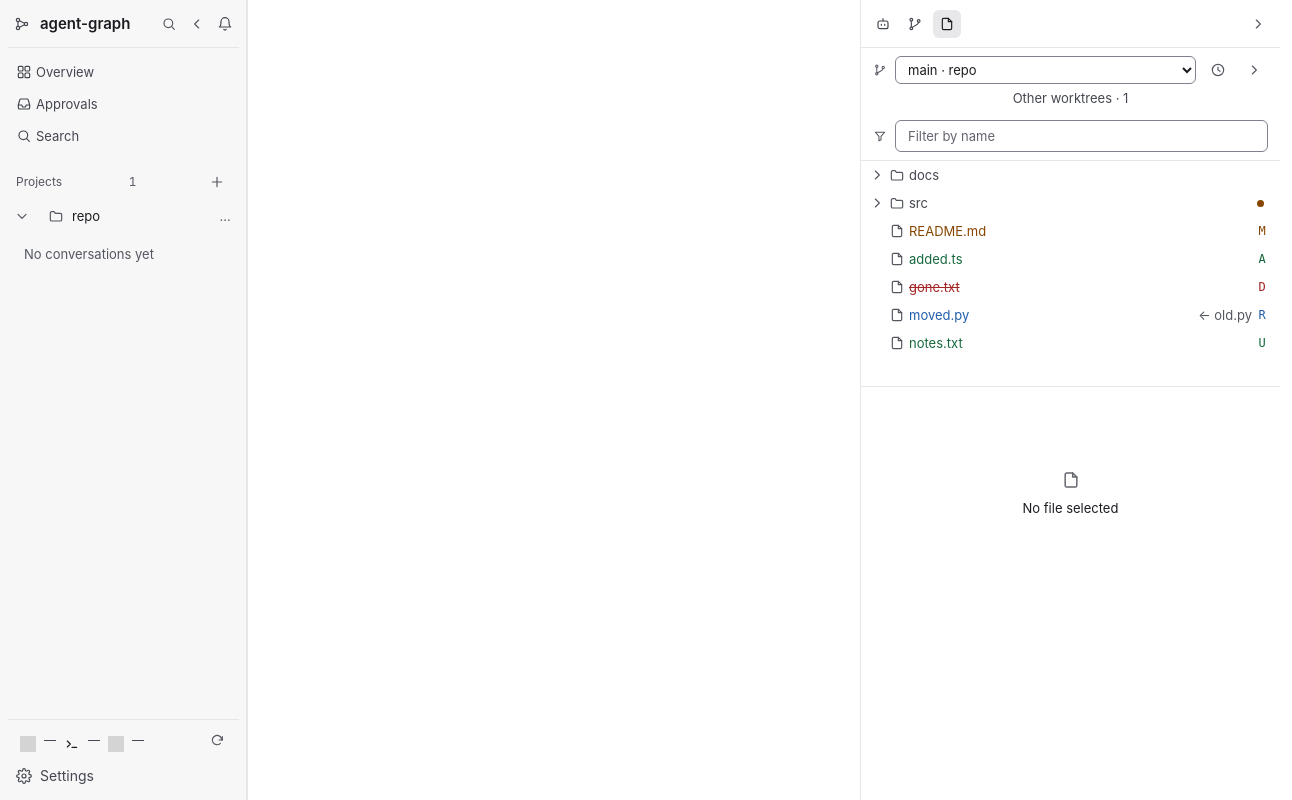
Scenario: Files explorer › shows git marks with colours, deleted and renamed files and a dot on folders with changes
Expected: the list is shown, x1=861 y1=161 x2=1280 y2=357
Expected: the text "M" is shown, x1=1258 y1=224 x2=1266 y2=238
Click the element showing "gone.txt D" at [934, 287], box x1=889 y1=279 x2=1266 y2=295
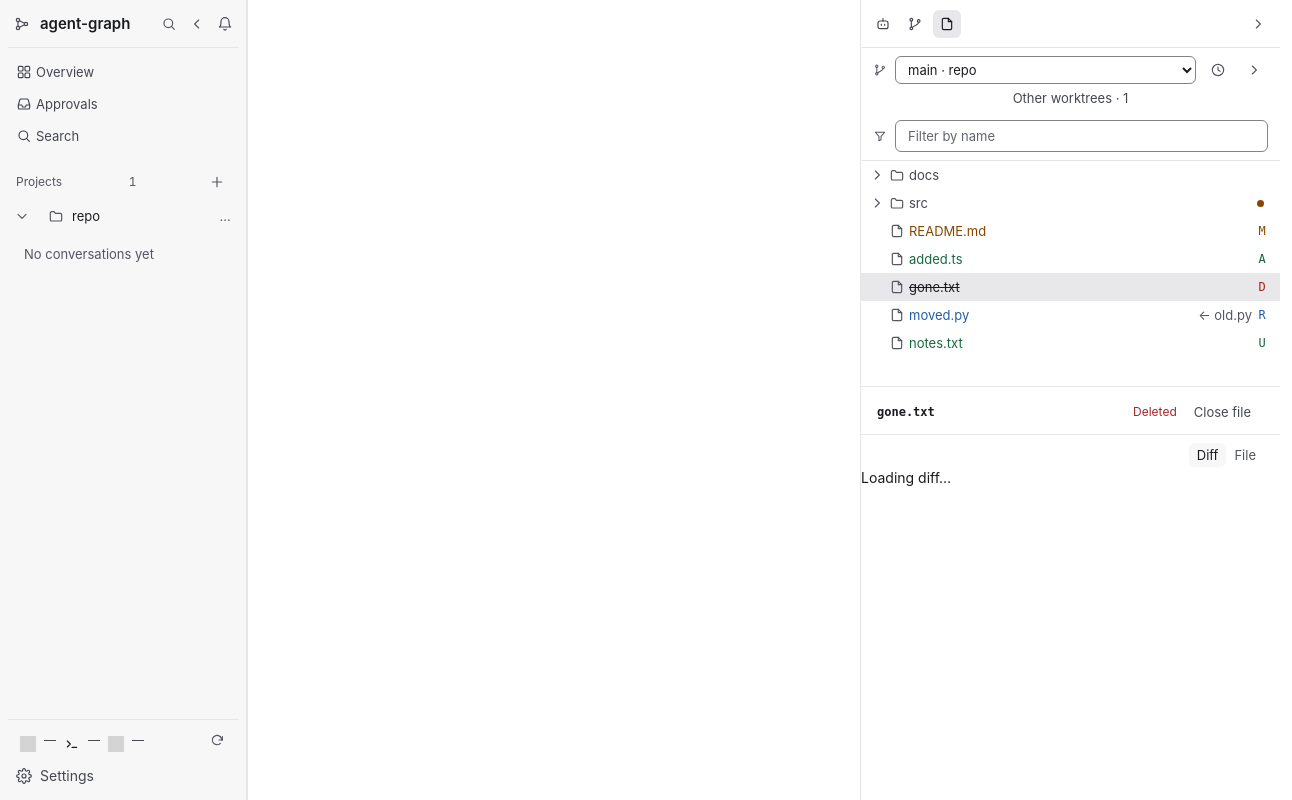
Click the button "File" at [1245, 455], box x1=1226 y1=443 x2=1264 y2=467
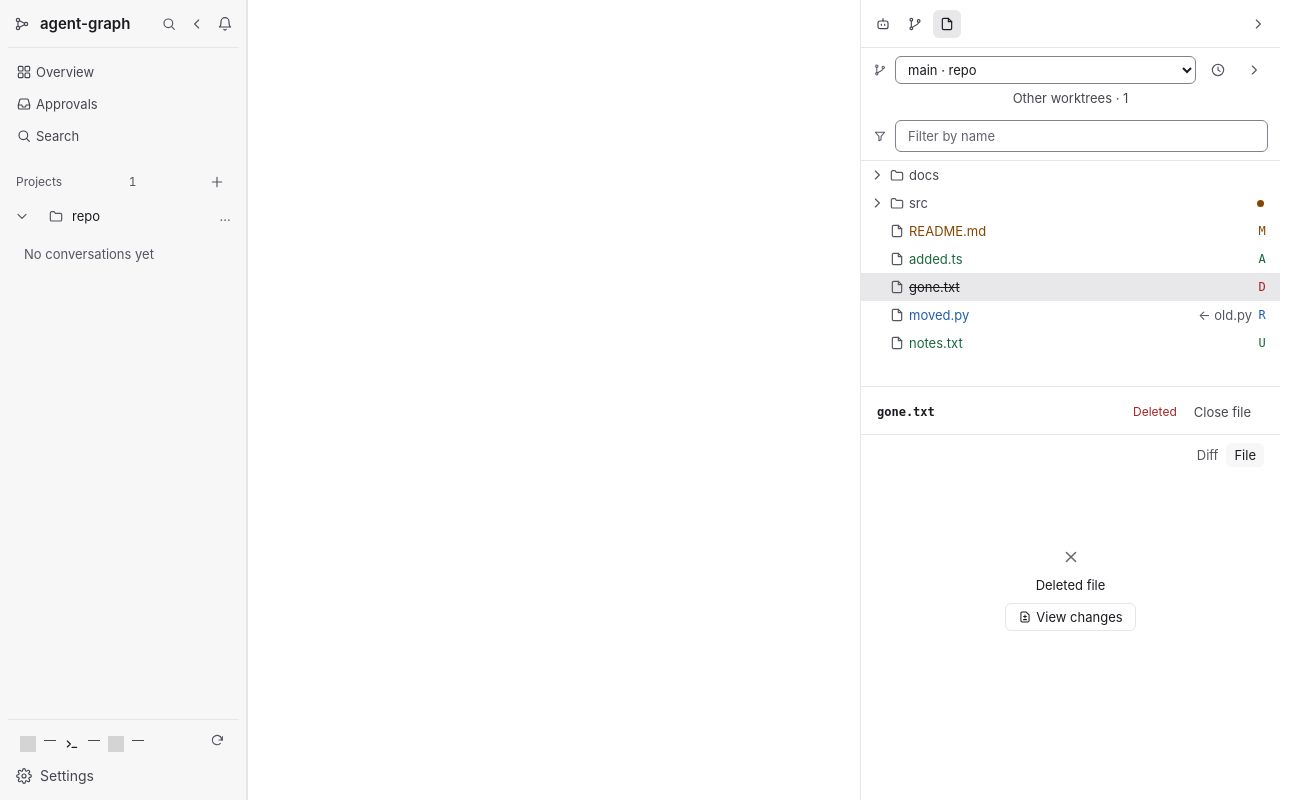
Now the heading "Deleted file" is shown, box x1=1036 y1=575 x2=1105 y2=595
